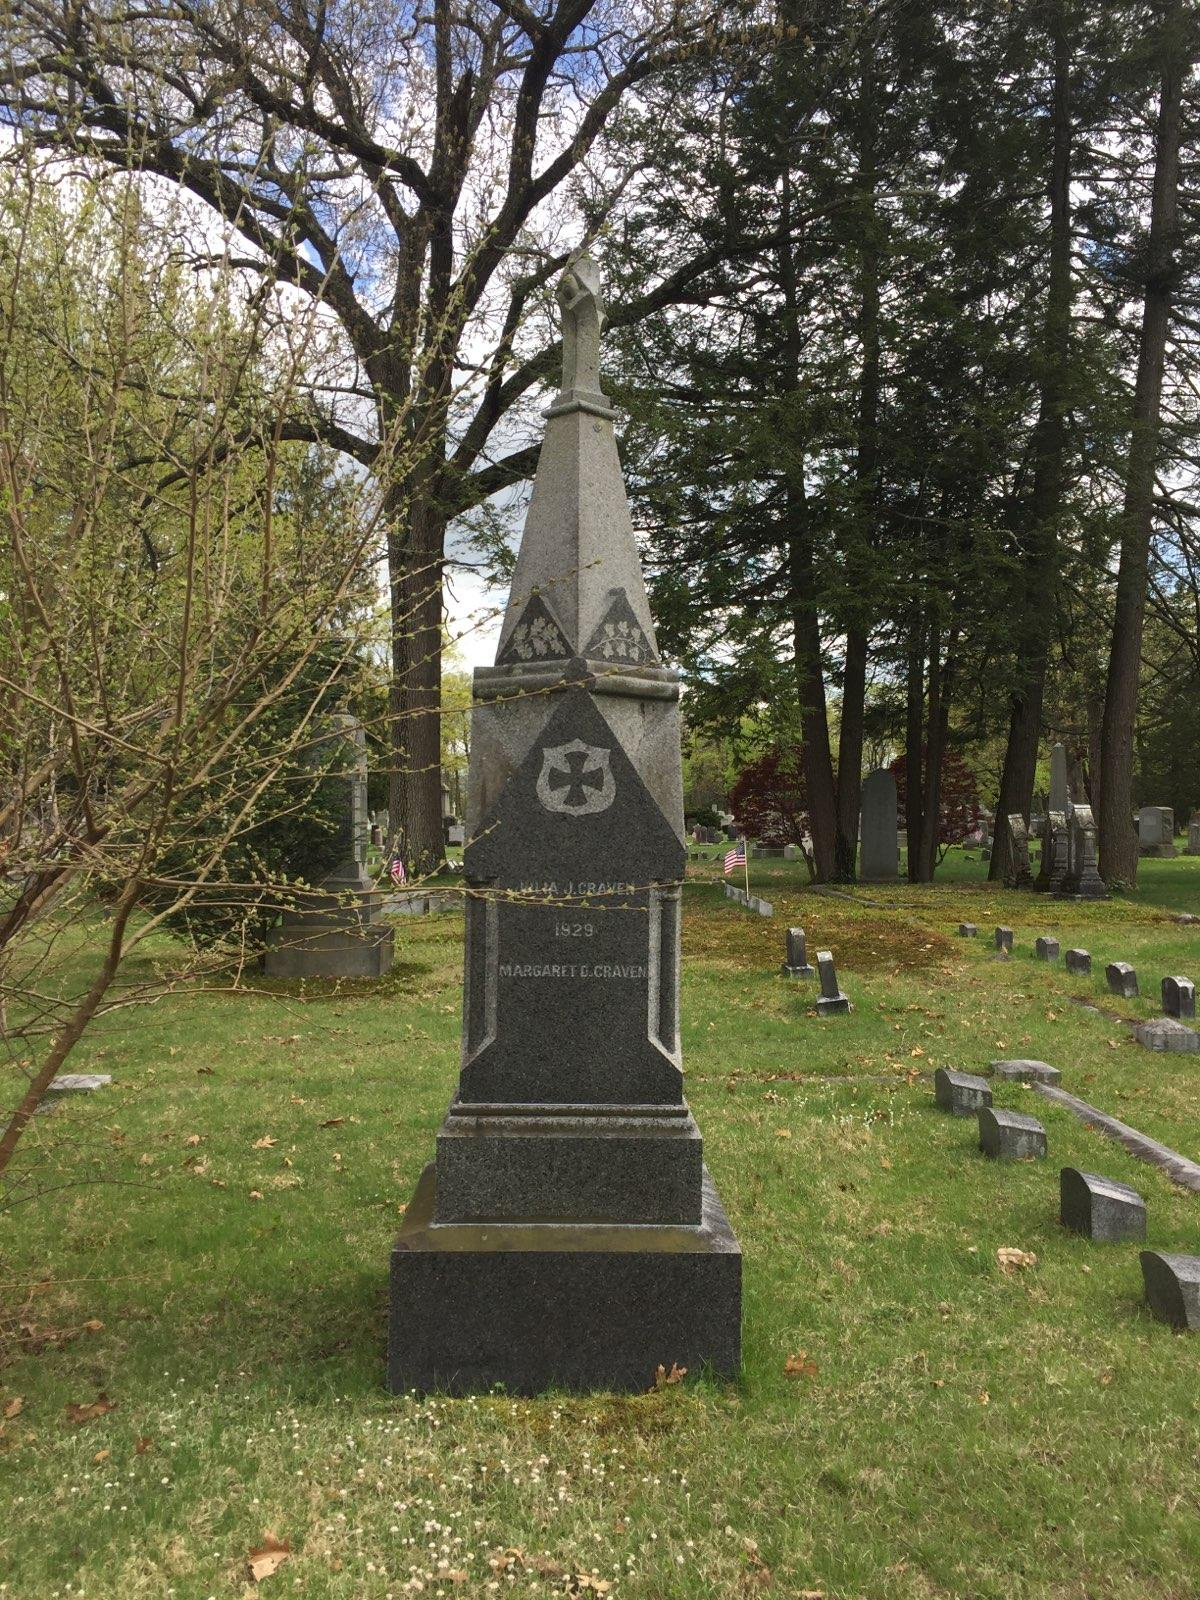obelisk: (391, 229, 741, 1388)
